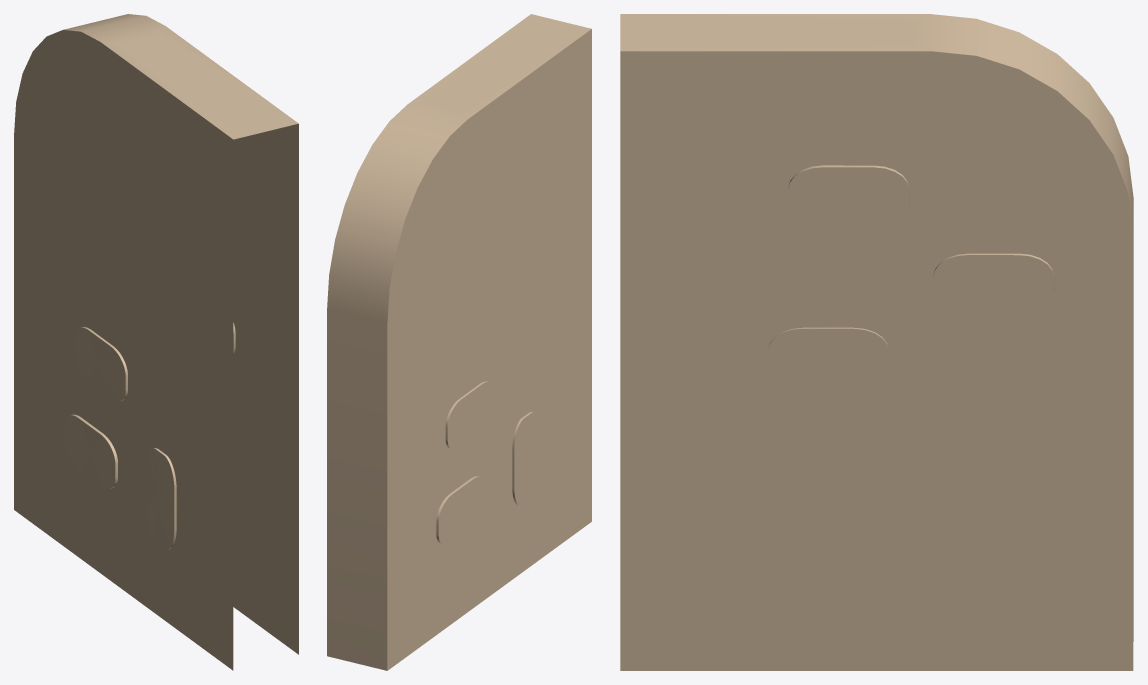
The model's file is wall3.glb.
3 renders of one model, left to right at view 1: azimuth 30°, elevation 25°; view 2: azimuth 150°, elevation 25°; view 3: azimuth 270°, elevation 25°, orthographic. The views are drawn at different scales.
Visible parts, largest first — view 1: wall_End; view 2: wall_End; view 3: wall_End.
Part boxes in pixels (x1,y1,x2,y2): wall_End: (14,14,298,670); wall_End: (327,14,591,670); wall_End: (620,14,1133,670).
Size of the model in its own units: 0.3338 by 2.33 by 1.75.
1 material, 1 textured.
